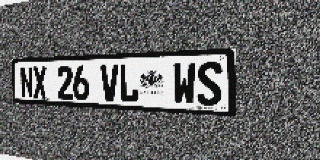2: (57, 66, 73, 100)
6: (73, 65, 89, 100)
L: (119, 64, 139, 103)
N: (20, 67, 33, 98)
S: (197, 61, 222, 106)
V: (101, 64, 119, 102)
W: (173, 62, 196, 105)
X: (33, 66, 47, 99)
